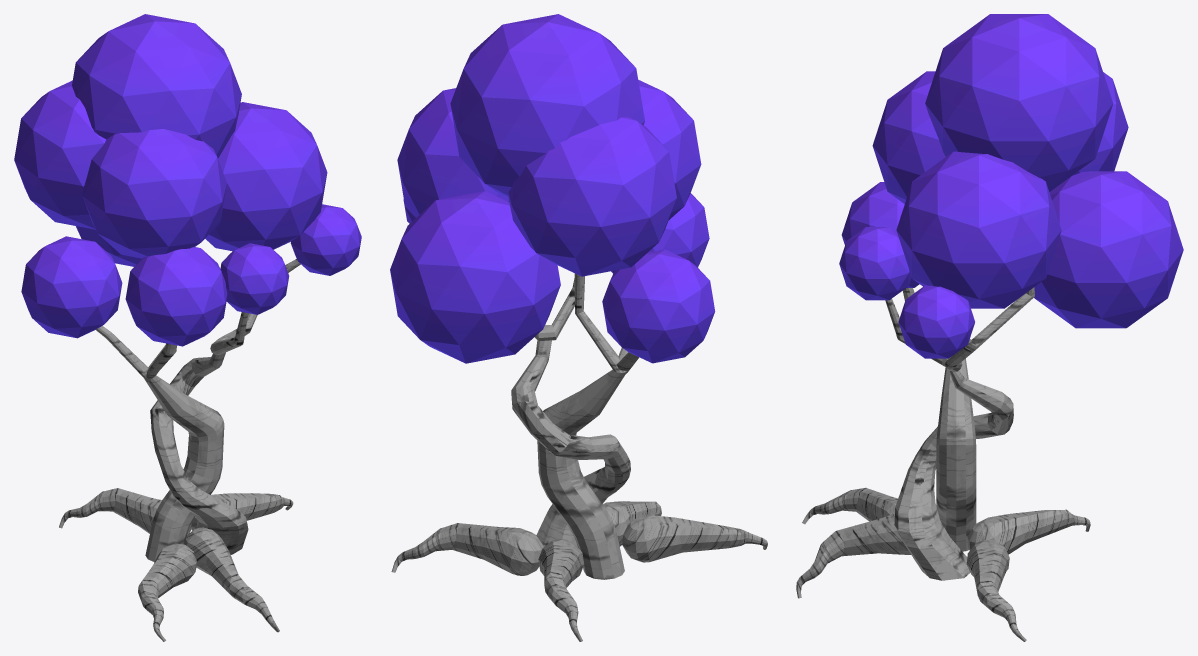
The model's file is MagicTree.fbx.
The picture shows the model from 3 angles, left to right: view 1: azimuth 30°, elevation 25°; view 2: azimuth 150°, elevation 25°; view 3: azimuth 270°, elevation 25°; orthographic projection. The views are drawn at different scales.
Visible parts, largest first — view 1: Leafs, MainTree, Roots; view 2: Leafs, MainTree, Roots; view 3: Leafs, MainTree, Roots.
Boxes of the visible parts, <box> form: Leafs: <box>14,14,361,346</box>; MainTree: <box>95,251,300,561</box>; Roots: <box>59,488,293,641</box>; Leafs: <box>390,14,715,363</box>; MainTree: <box>511,273,638,579</box>; Roots: <box>391,501,767,641</box>; Leafs: <box>839,14,1183,358</box>; MainTree: <box>885,287,1034,580</box>; Roots: <box>796,487,1090,641</box>.
Size of the model in its own units: 331 by 576 by 355.
